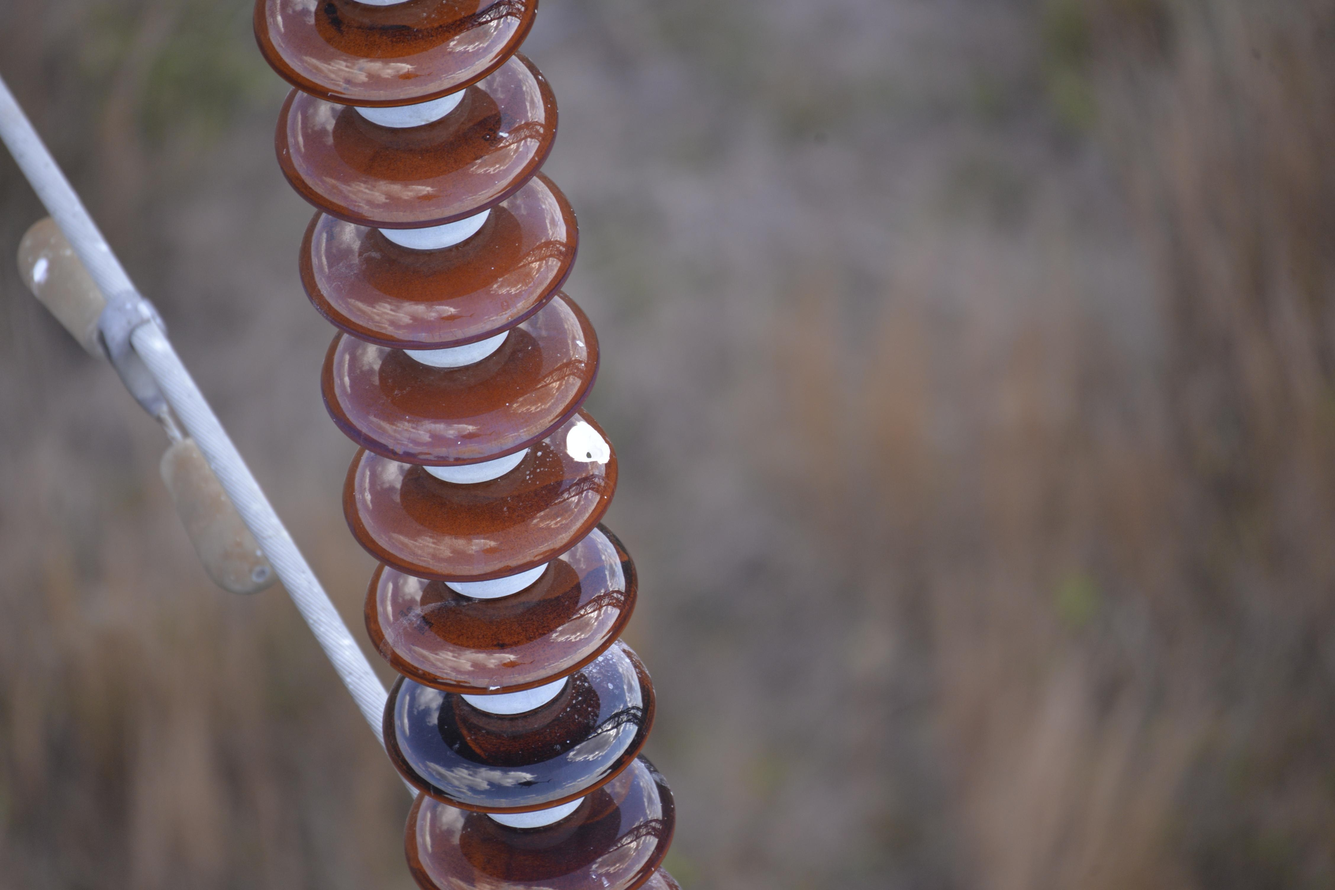damaged: (559, 412, 618, 474)
hammer: (19, 219, 283, 591)
insulator: (254, 0, 675, 890)
